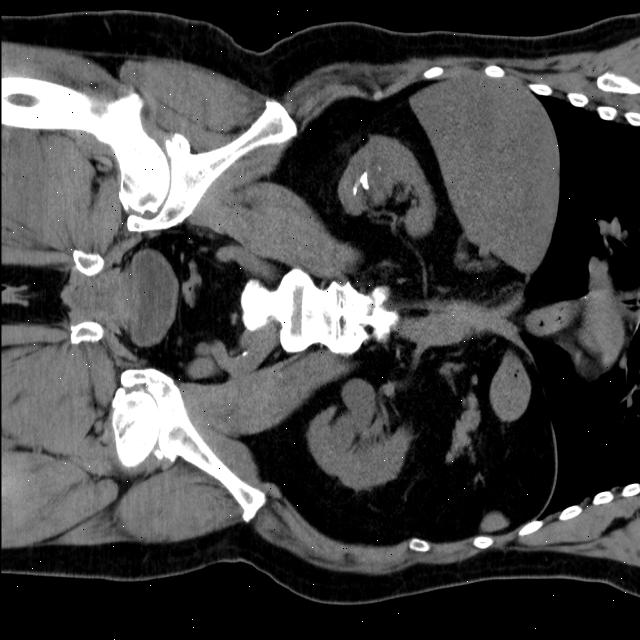kidneystone: (358, 171, 369, 190)
